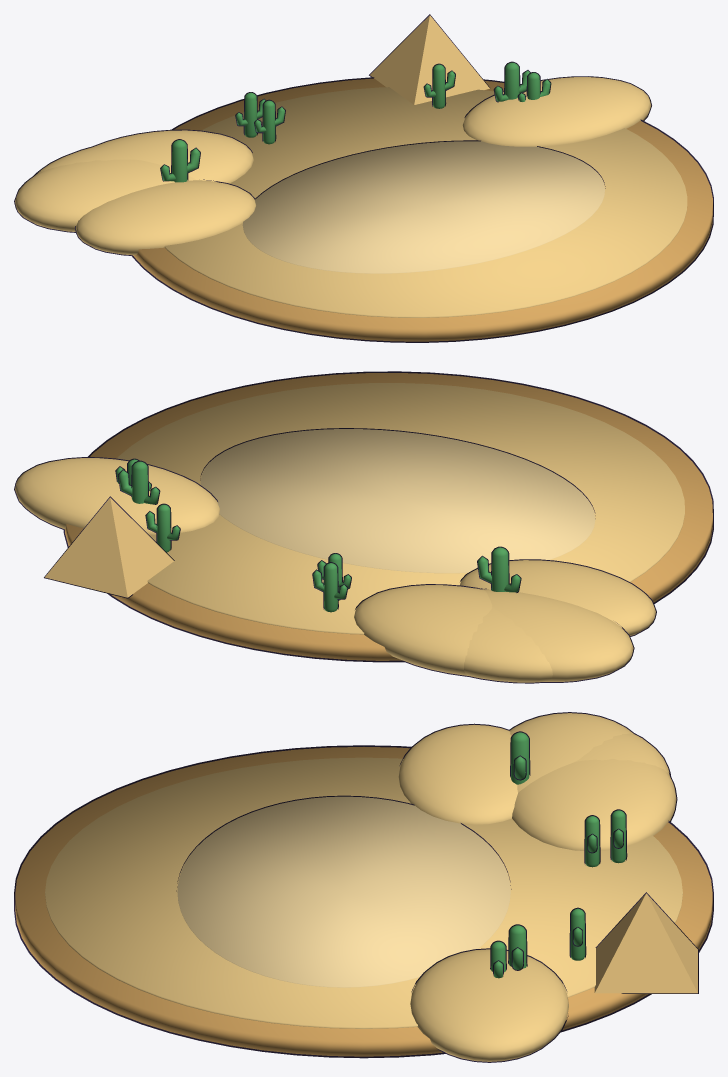
The model's file is dunes.glb.
The picture shows the model from 3 angles, top to bottom: view 1: azimuth 30°, elevation 25°; view 2: azimuth 150°, elevation 25°; view 3: azimuth 270°, elevation 25°; orthographic projection. The views are drawn at different scales.
Visible parts, largest first — view 1: ground, floor, skirt, dune.004, dune.001, dune, pyramid, dune.002, dune.003, capsule, capsule.002, capsule.003 (+2 smaller); view 2: ground, floor, skirt, dune.004, dune.002, dune, pyramid, dune.001, dune.003, capsule, capsule.005, capsule.004 (+1 smaller); view 3: ground, floor, skirt, dune.004, dune.002, dune.001, pyramid, dune, dune.003, capsule, capsule.005, capsule.003 (+2 smaller).
Part boxes in pixels (<box>): ground: <box>164,87,687,317</box>; floor: <box>242,140,605,273</box>; skirt: <box>131,77,713,342</box>; dune.004: <box>462,76,651,146</box>; dune.001: <box>75,179,255,256</box>; dune: <box>14,159,196,232</box>; pyramid: <box>369,14,489,104</box>; dune.002: <box>86,129,253,183</box>; dune.003: <box>31,145,140,178</box>; capsule: <box>171,139,188,182</box>; capsule.002: <box>432,63,446,108</box>; capsule.003: <box>262,99,276,144</box>; ground: <box>117,383,684,634</box>; floor: <box>200,428,595,573</box>; skirt: <box>63,371,713,662</box>; dune.004: <box>14,457,219,534</box>; dune.002: <box>354,584,492,677</box>; dune: <box>480,588,634,682</box>; pyramid: <box>44,496,174,598</box>; dune.001: <box>460,559,656,636</box>; dune.003: <box>461,606,552,683</box>; capsule: <box>491,546,509,591</box>; capsule.005: <box>323,562,338,612</box>; capsule.004: <box>131,460,148,503</box>; ground: <box>45,757,682,1028</box>; floor: <box>176,795,511,987</box>; skirt: <box>14,745,713,1058</box>; dune.004: <box>410,948,568,1062</box>; dune.002: <box>512,759,677,850</box>; dune.001: <box>398,723,517,824</box>; pyramid: <box>594,892,698,993</box>; dune: <box>509,712,637,792</box>; dune.003: <box>573,731,670,775</box>; capsule: <box>510,731,530,784</box>; capsule.005: <box>610,809,627,863</box>; capsule.003: <box>584,815,600,867</box>.
Bounding box in the file's own units: 24.05 × 3.58 × 21.07.
